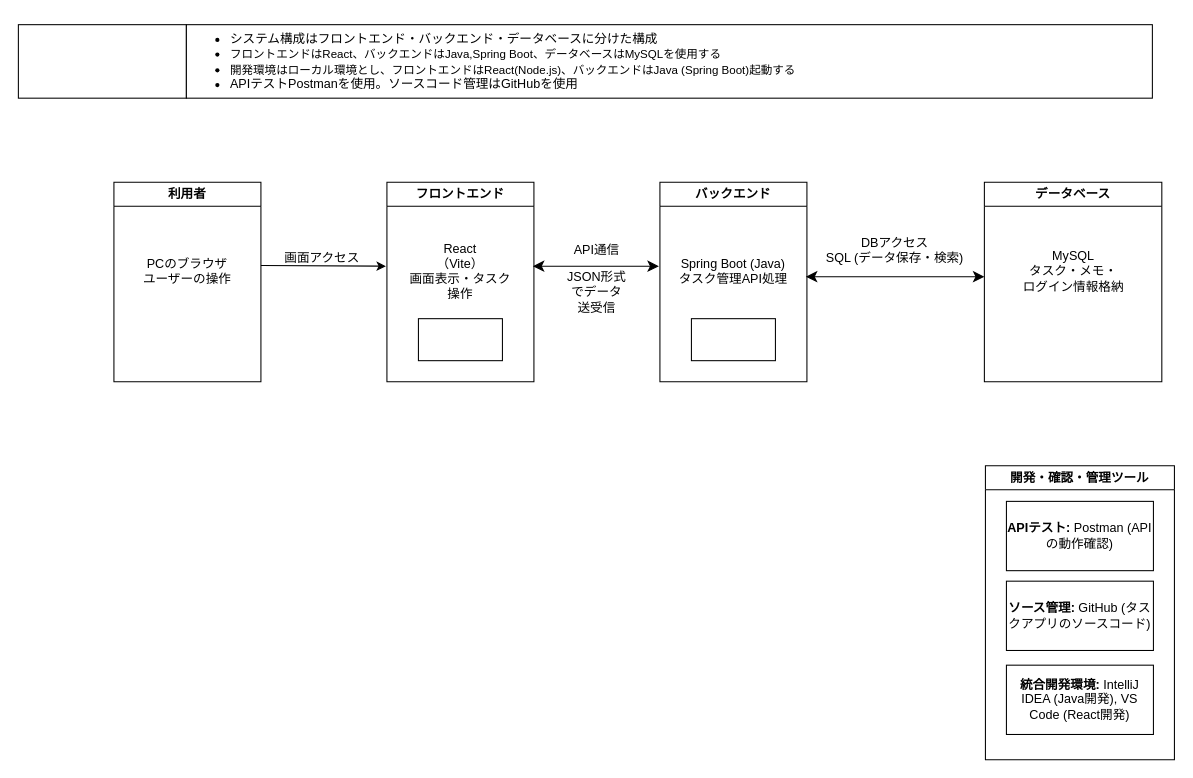
Image size: 1193x778. Some labels were removed from this diagram. The shapes that lost their labels are listed below. From the top down, each one's centre as x and y in pixels, then its label:
At pixel 101 61: "システム構成図".
At pixel 459 339: "開発環境 VS Code".
At pixel 732 339: "開発環境 IDE".
